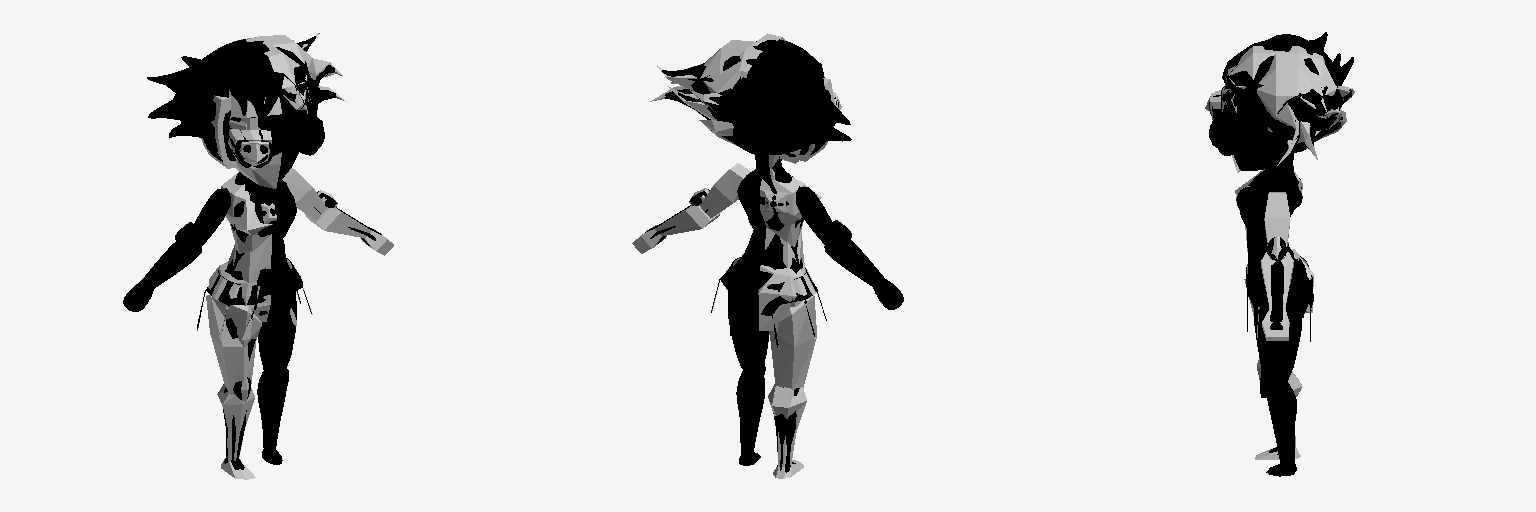
The model's file is GAME-JAM-2020-player.obj.
The picture shows the model from 3 angles: view 1: azimuth 30°, elevation 25°; view 2: azimuth 150°, elevation 25°; view 3: azimuth 270°, elevation 25°; orthographic projection.
Parts seen in each view (by area): view 1: x-bone-chan--head.003_Circle.031, x-bone-chan--head.004_Circle.032, x-bone-chan--legs_Circle.011, x-bone-chan--legs.002_Circle.036, x-bone-chan--arms.002_Circle.035, x-bone-chan--legs.003_Circle.039, x-bone-chan--torso.004_Circle.034, x-bone-chan--head.002_Circle.029, x-bone-chan--head.001_Circle.023, x-bone-chan--torso.000_Circle.021, x-bone-chan--torso.001_Circle.006, x-bone-chan--legs.001_Circle.018 (+7 smaller); view 2: x-bone-chan--head.003_Circle.031, x-bone-chan--head.002_Circle.029, x-bone-chan--legs_Circle.011, x-bone-chan--legs.002_Circle.036, x-bone-chan--arms.002_Circle.035, x-bone-chan--torso.005_Circle.040, x-bone-chan--torso.001_Circle.006, x-bone-chan--torso.004_Circle.034, x-bone-chan--torso.000_Circle.021, x-bone-chan--legs.003_Circle.039, x-bone-chan--torso.003_Circle.033, x-bone-chan--legs.001_Circle.018 (+3 smaller); view 3: x-bone-chan--head.003_Circle.031, x-bone-chan--head.002_Circle.029, x-bone-chan--head.004_Circle.032, x-bone-chan--torso.004_Circle.034, x-bone-chan--legs.002_Circle.036, x-bone-chan--legs.003_Circle.039, x-bone-chan--arms.001_Circle.020, x-bone-chan--torso.003_Circle.033, x-bone-chan--torso.005_Circle.040, x-bone-chan--arms_Circle.017, x-bone-chan--arms.002_Circle.035, x-bone-chan--head.005_Circle.038.
Part boxes in pixels (x1,y1,x2,y2): x-bone-chan--head.003_Circle.031: (147,36,335,137); x-bone-chan--head.004_Circle.032: (203,76,324,167); x-bone-chan--legs_Circle.011: (206,295,261,394); x-bone-chan--legs.002_Circle.036: (223,367,288,469); x-bone-chan--arms.002_Circle.035: (123,191,381,311); x-bone-chan--legs.003_Circle.039: (226,292,296,374); x-bone-chan--torso.004_Circle.034: (231,172,296,242); x-bone-chan--head.002_Circle.029: (233,33,346,113); x-bone-chan--head.001_Circle.023: (201,95,276,169); x-bone-chan--torso.000_Circle.021: (221,172,276,253); x-bone-chan--torso.001_Circle.006: (209,234,271,321); x-bone-chan--legs.001_Circle.018: (217,377,255,479); x-bone-chan--head.003_Circle.031: (662,39,851,154); x-bone-chan--head.002_Circle.029: (650,33,785,146); x-bone-chan--legs_Circle.011: (769,295,816,389); x-bone-chan--legs.002_Circle.036: (736,363,799,472); x-bone-chan--arms.002_Circle.035: (645,189,903,309); x-bone-chan--torso.005_Circle.040: (729,227,802,319); x-bone-chan--torso.001_Circle.006: (758,228,805,330); x-bone-chan--torso.004_Circle.034: (737,155,803,230); x-bone-chan--torso.000_Circle.021: (760,155,821,246); x-bone-chan--legs.003_Circle.039: (728,292,768,373); x-bone-chan--torso.003_Circle.033: (711,257,826,347); x-bone-chan--legs.001_Circle.018: (768,384,806,478); x-bone-chan--head.003_Circle.031: (1222,32,1353,155); x-bone-chan--head.002_Circle.029: (1222,46,1354,165); x-bone-chan--head.004_Circle.032: (1209,87,1289,165); x-bone-chan--torso.004_Circle.034: (1236,153,1302,246); x-bone-chan--legs.002_Circle.036: (1260,368,1296,476); x-bone-chan--legs.003_Circle.039: (1254,305,1301,386); x-bone-chan--arms.001_Circle.020: (1261,235,1293,340); x-bone-chan--torso.003_Circle.033: (1246,256,1313,342); x-bone-chan--torso.005_Circle.040: (1247,229,1308,317); x-bone-chan--arms_Circle.017: (1264,192,1289,246); x-bone-chan--arms.002_Circle.035: (1265,237,1289,329); x-bone-chan--head.005_Circle.038: (1227,89,1271,170).
Size of the model in its own units: 4.72 by 7.19 by 2.33.